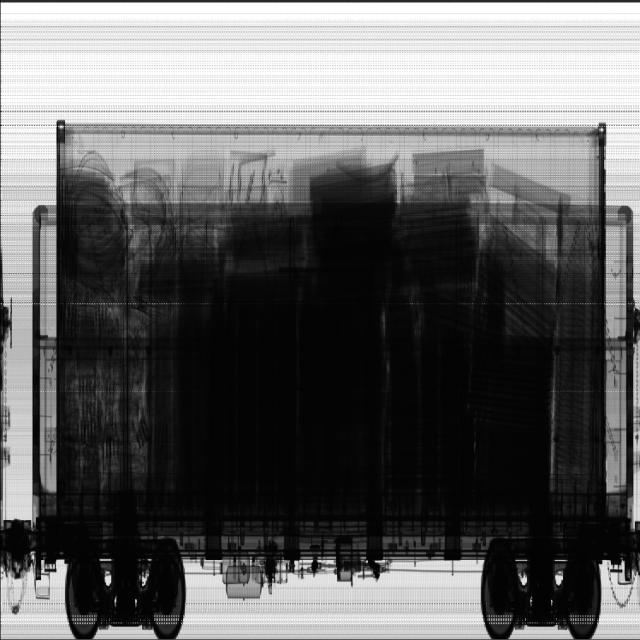auto parts: (63, 301, 157, 503)
lamps: (216, 160, 477, 280), (479, 214, 559, 359)
